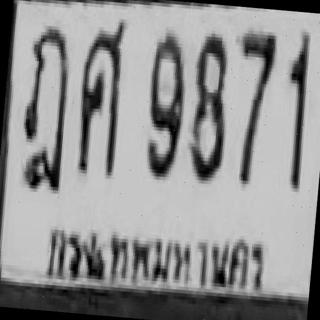A14: (16, 21, 72, 190)
A38: (72, 16, 125, 175)
N01: (278, 31, 311, 185)
N07: (227, 28, 276, 184)
N08: (185, 29, 232, 178)
N09: (142, 28, 188, 178)
P04: (40, 210, 274, 304)
